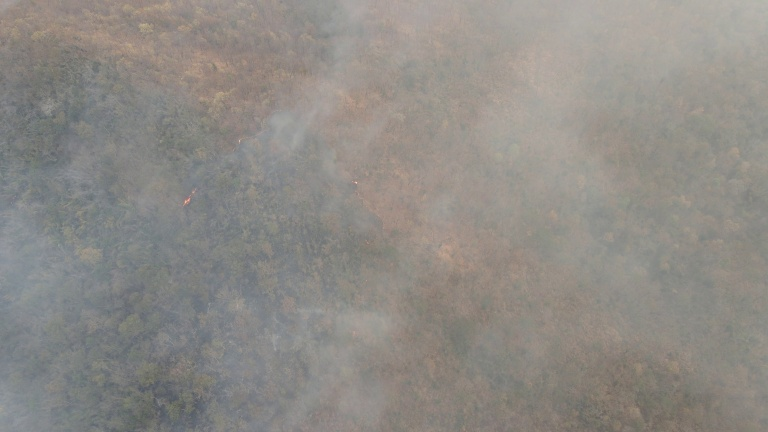fire: (174, 177, 201, 220)
smoke: (1, 1, 768, 430)
